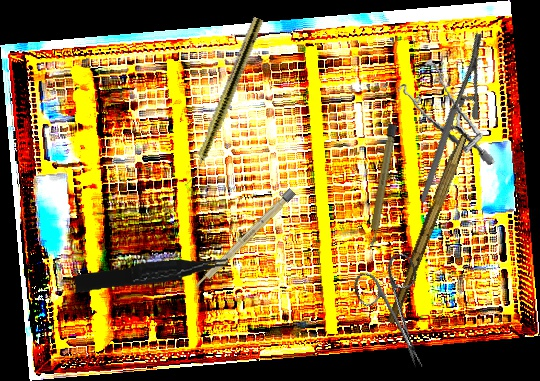Handpiece: (182, 15, 265, 191)
Iris Scissors: (348, 250, 451, 380)
Needle Holder: (373, 30, 528, 204)
Scalpel Handle: (385, 131, 469, 326), (192, 187, 297, 292), (366, 123, 398, 248)
Speculum: (394, 52, 495, 176)
Tissue Forceps: (74, 255, 230, 293)
